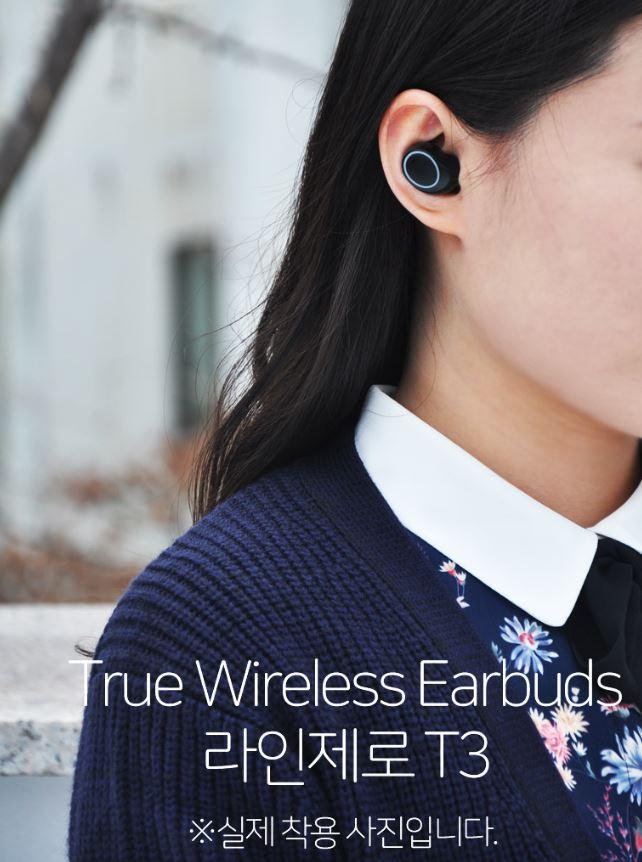earphone: (389, 134, 466, 205)
